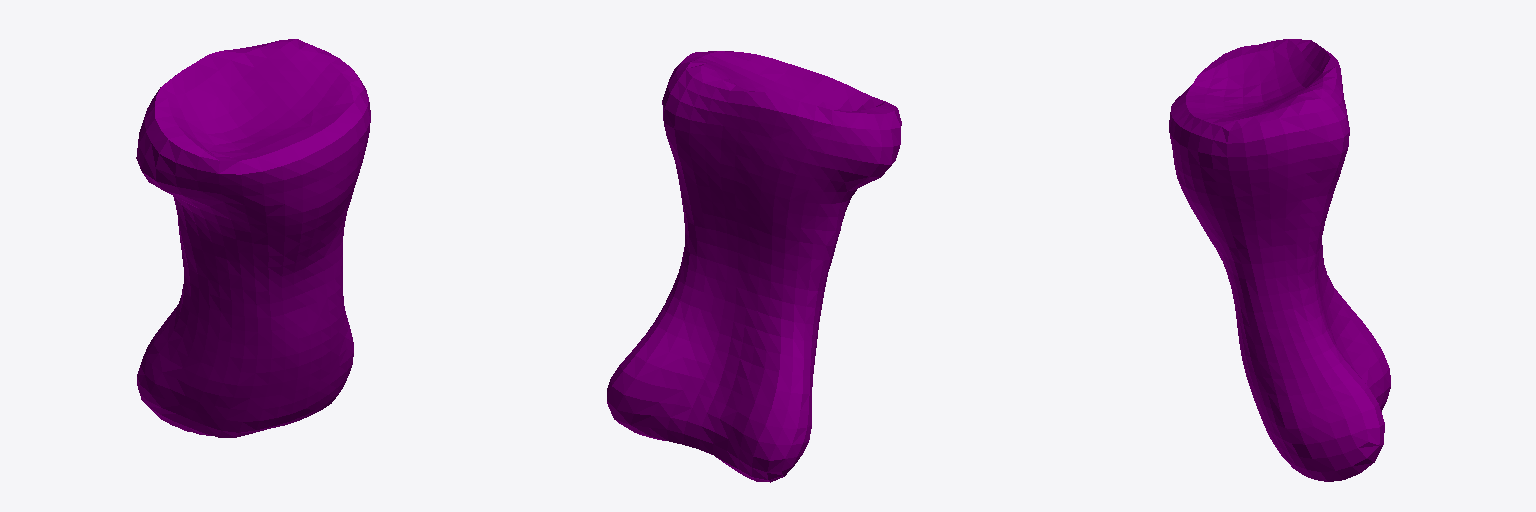
File: ProximalPhalanx_1.obj
3 views of the same model, side by side, from view 1: azimuth 30°, elevation 25°; view 2: azimuth 150°, elevation 25°; view 3: azimuth 270°, elevation 25° (orthographic).
Visible parts, largest first — view 1: Object_0ProximalPhalanx_1; view 2: Object_0ProximalPhalanx_1; view 3: Object_0ProximalPhalanx_1.
Boxes of the visible parts, x1,y1,x2,y2 form: Object_0ProximalPhalanx_1: [136, 39, 370, 437]; Object_0ProximalPhalanx_1: [607, 51, 901, 482]; Object_0ProximalPhalanx_1: [1169, 39, 1390, 481].
Bounding box in the file's own units: 24.12 × 36.85 × 19.59.